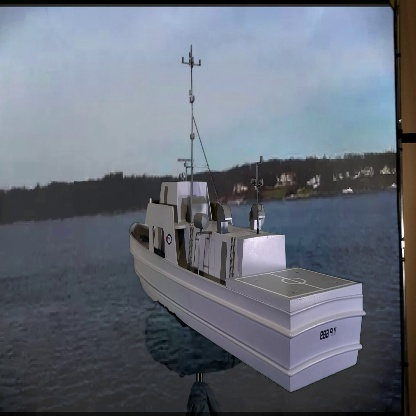YP689: (128, 47, 365, 393)
